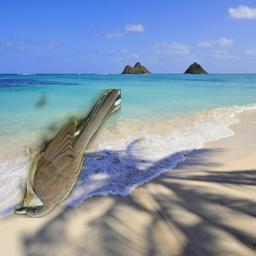Cuckoo: (14, 89, 121, 218)
